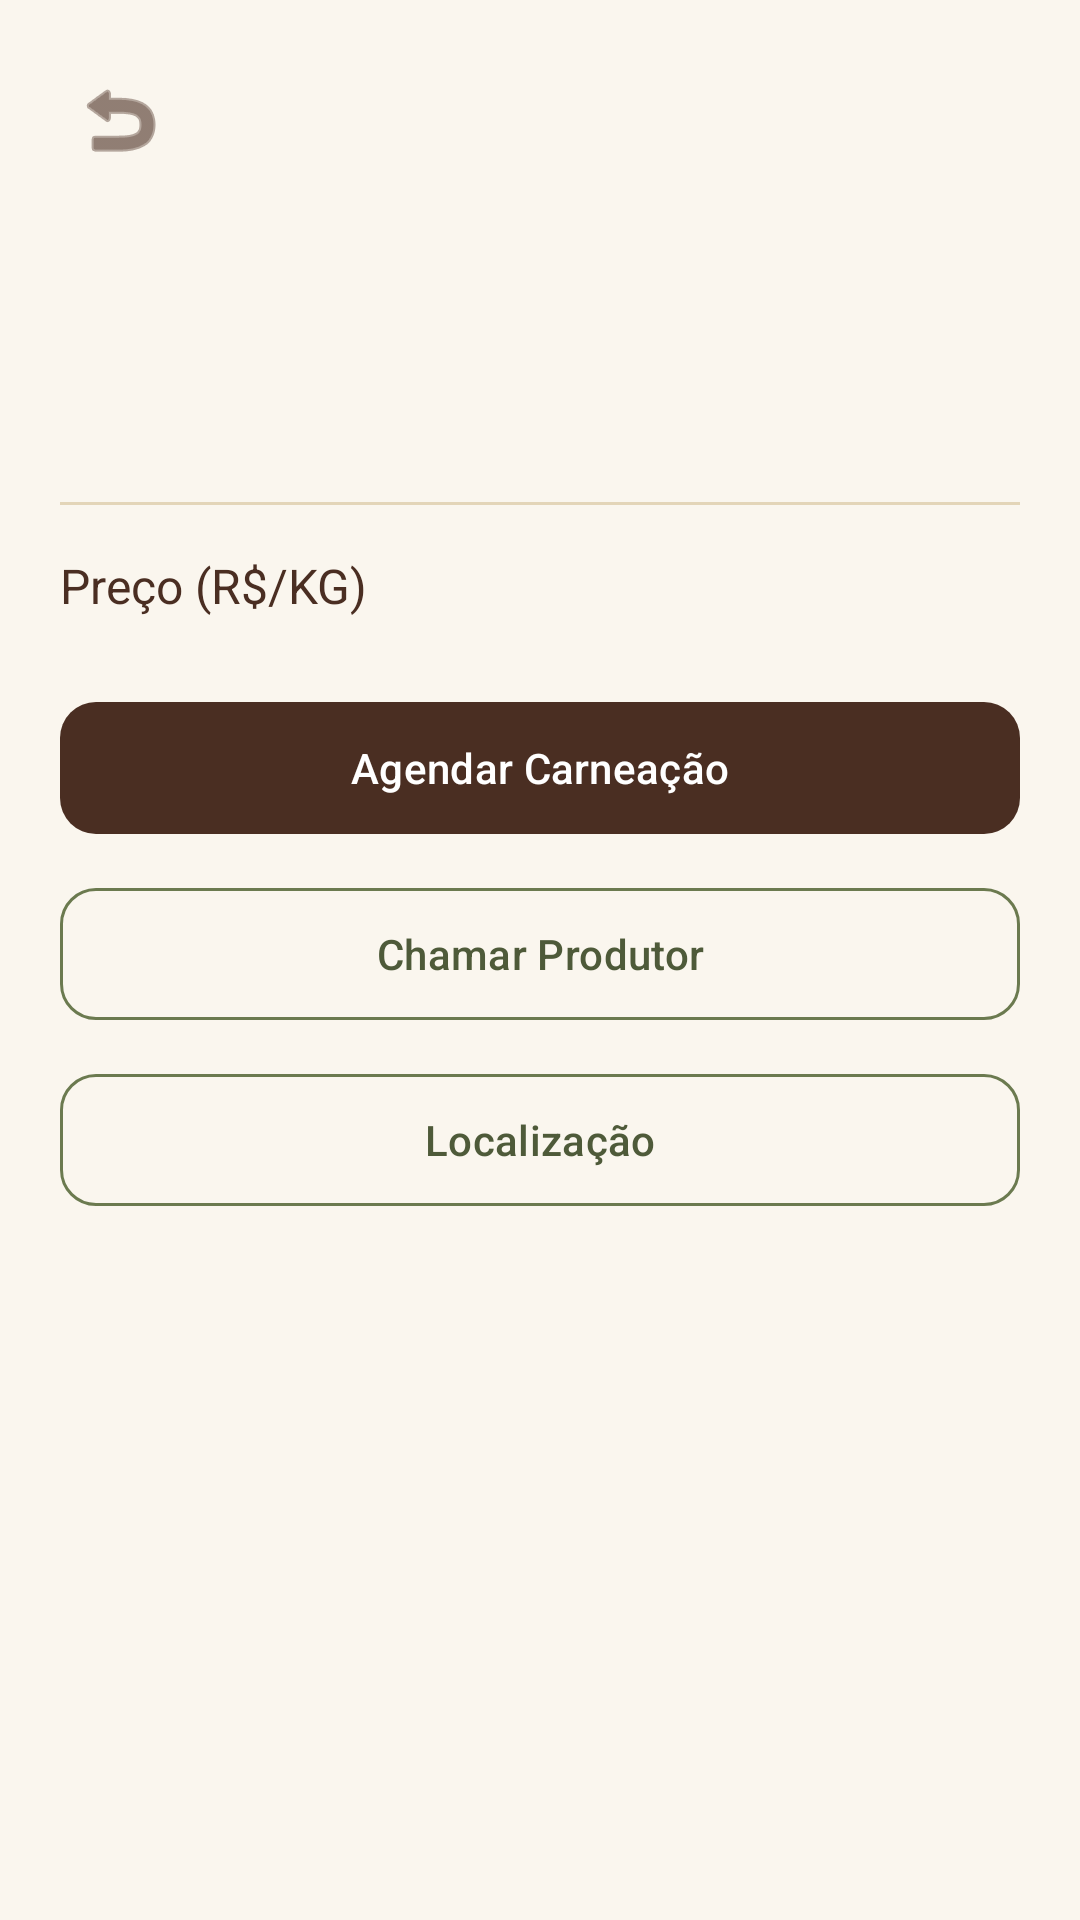

Where to tap for icons on this 1080w x 1920h app screen, as (x=x, y=y):
Voltar: (x=121, y=120)
